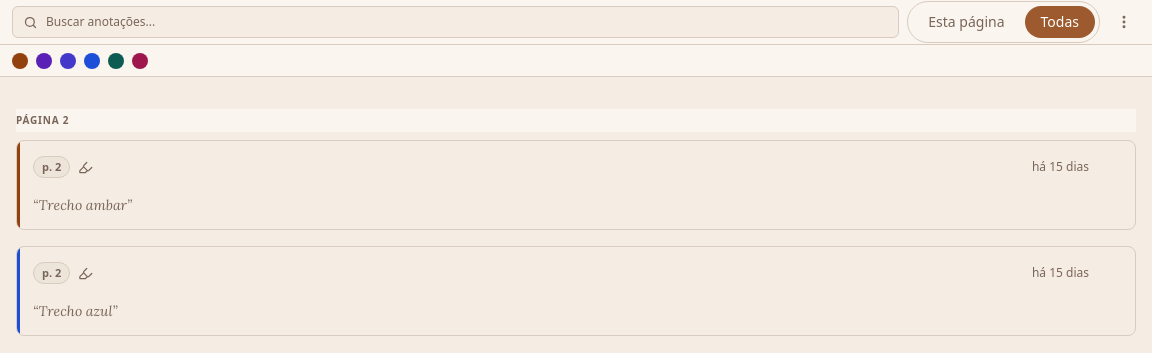
AnnotationsTab › nomeia somente a cor no estado filtrado
This screenshot has width=1152, height=353.
Click the button named "Filtrar pela cor rosa": point(140, 60) [132, 52, 148, 68]
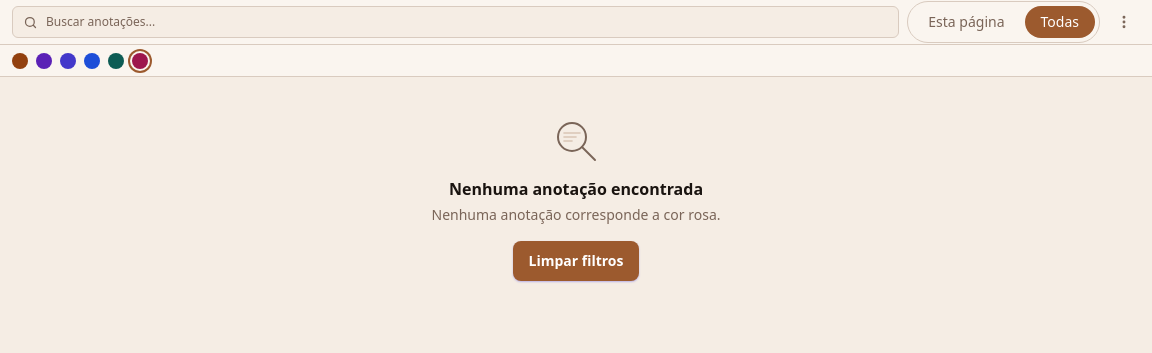
Result: the text "Nenhuma anotação corresponde a cor rosa." is shown at [432, 205, 720, 225]
